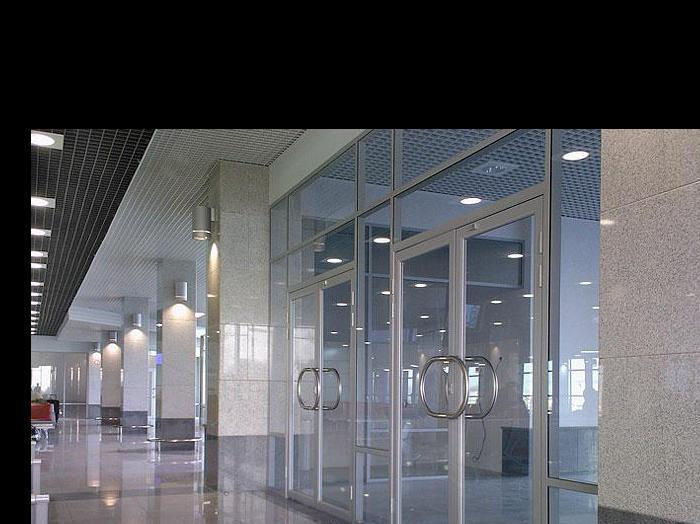Puerta: (391, 200, 552, 524), (290, 263, 358, 523)
